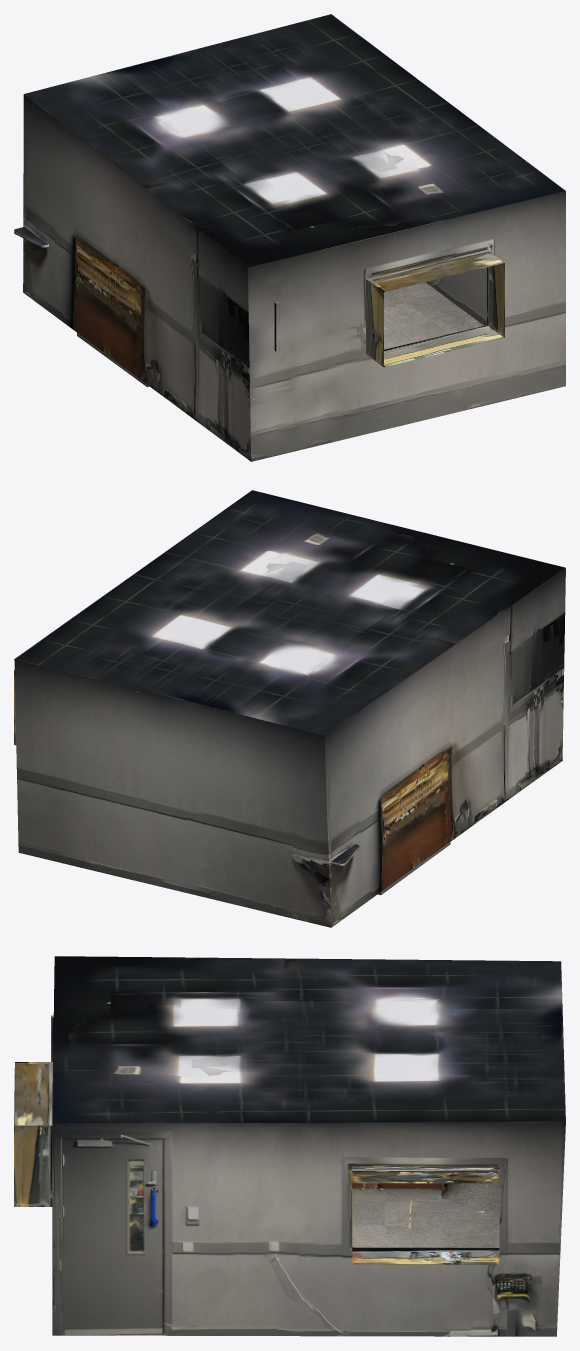
File: 1_m110___next_to_m108_v2-IM.fbx
The picture shows the model from 3 angles, top to bottom: view 1: azimuth 30°, elevation 25°; view 2: azimuth 150°, elevation 25°; view 3: azimuth 270°, elevation 25°; orthographic projection. The views are drawn at different scales.
Parts seen in each view (by area): view 1: 1_m110___next_to_m108_v2-IM; view 2: 1_m110___next_to_m108_v2-IM; view 3: 1_m110___next_to_m108_v2-IM.
Part boxes in pixels (<box>): 1_m110___next_to_m108_v2-IM: <box>14,14,565,461</box>; 1_m110___next_to_m108_v2-IM: <box>14,490,565,927</box>; 1_m110___next_to_m108_v2-IM: <box>14,956,565,1336</box>.
Size of the model in its own units: 397 by 217 by 491.
Materials: 1 (1 with a texture image).
